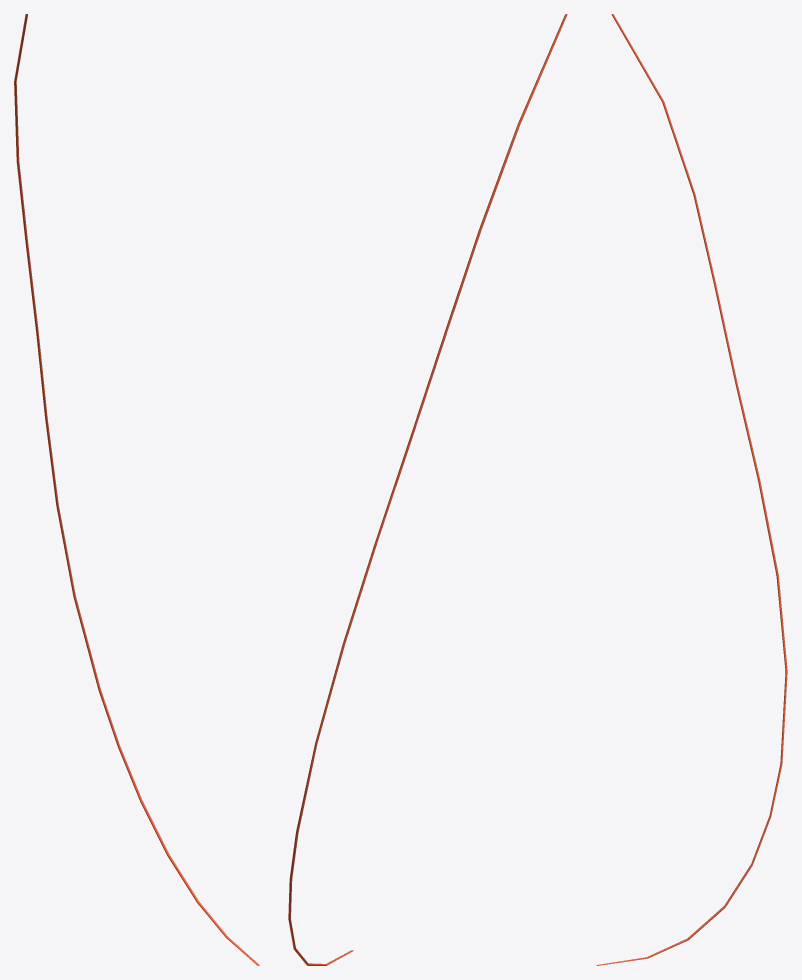
File: original-26.obj
3 views of the same model, side by side, from view 1: azimuth 30°, elevation 25°; view 2: azimuth 150°, elevation 25°; view 3: azimuth 270°, elevation 25° (orthographic). The views are drawn at different scales.
Parts seen in each view (by area): view 1: Obj_000026_2_1/Obj_000026_2/mesh28/mesh28-geometry#mesh28-geomet; view 2: Obj_000026_2_1/Obj_000026_2/mesh28/mesh28-geometry#mesh28-geomet; view 3: Obj_000026_2_1/Obj_000026_2/mesh28/mesh28-geometry#mesh28-geomet.
Boxes of the visible parts, x1,y1,x2,y2 form: Obj_000026_2_1/Obj_000026_2/mesh28/mesh28-geometry#mesh28-geomet: (14,14,259,965); Obj_000026_2_1/Obj_000026_2/mesh28/mesh28-geometry#mesh28-geomet: (288,14,567,965); Obj_000026_2_1/Obj_000026_2/mesh28/mesh28-geometry#mesh28-geomet: (596,14,787,965).
Bounding box in the file's own units: 0.448 × 1.9 × 0.3838.
